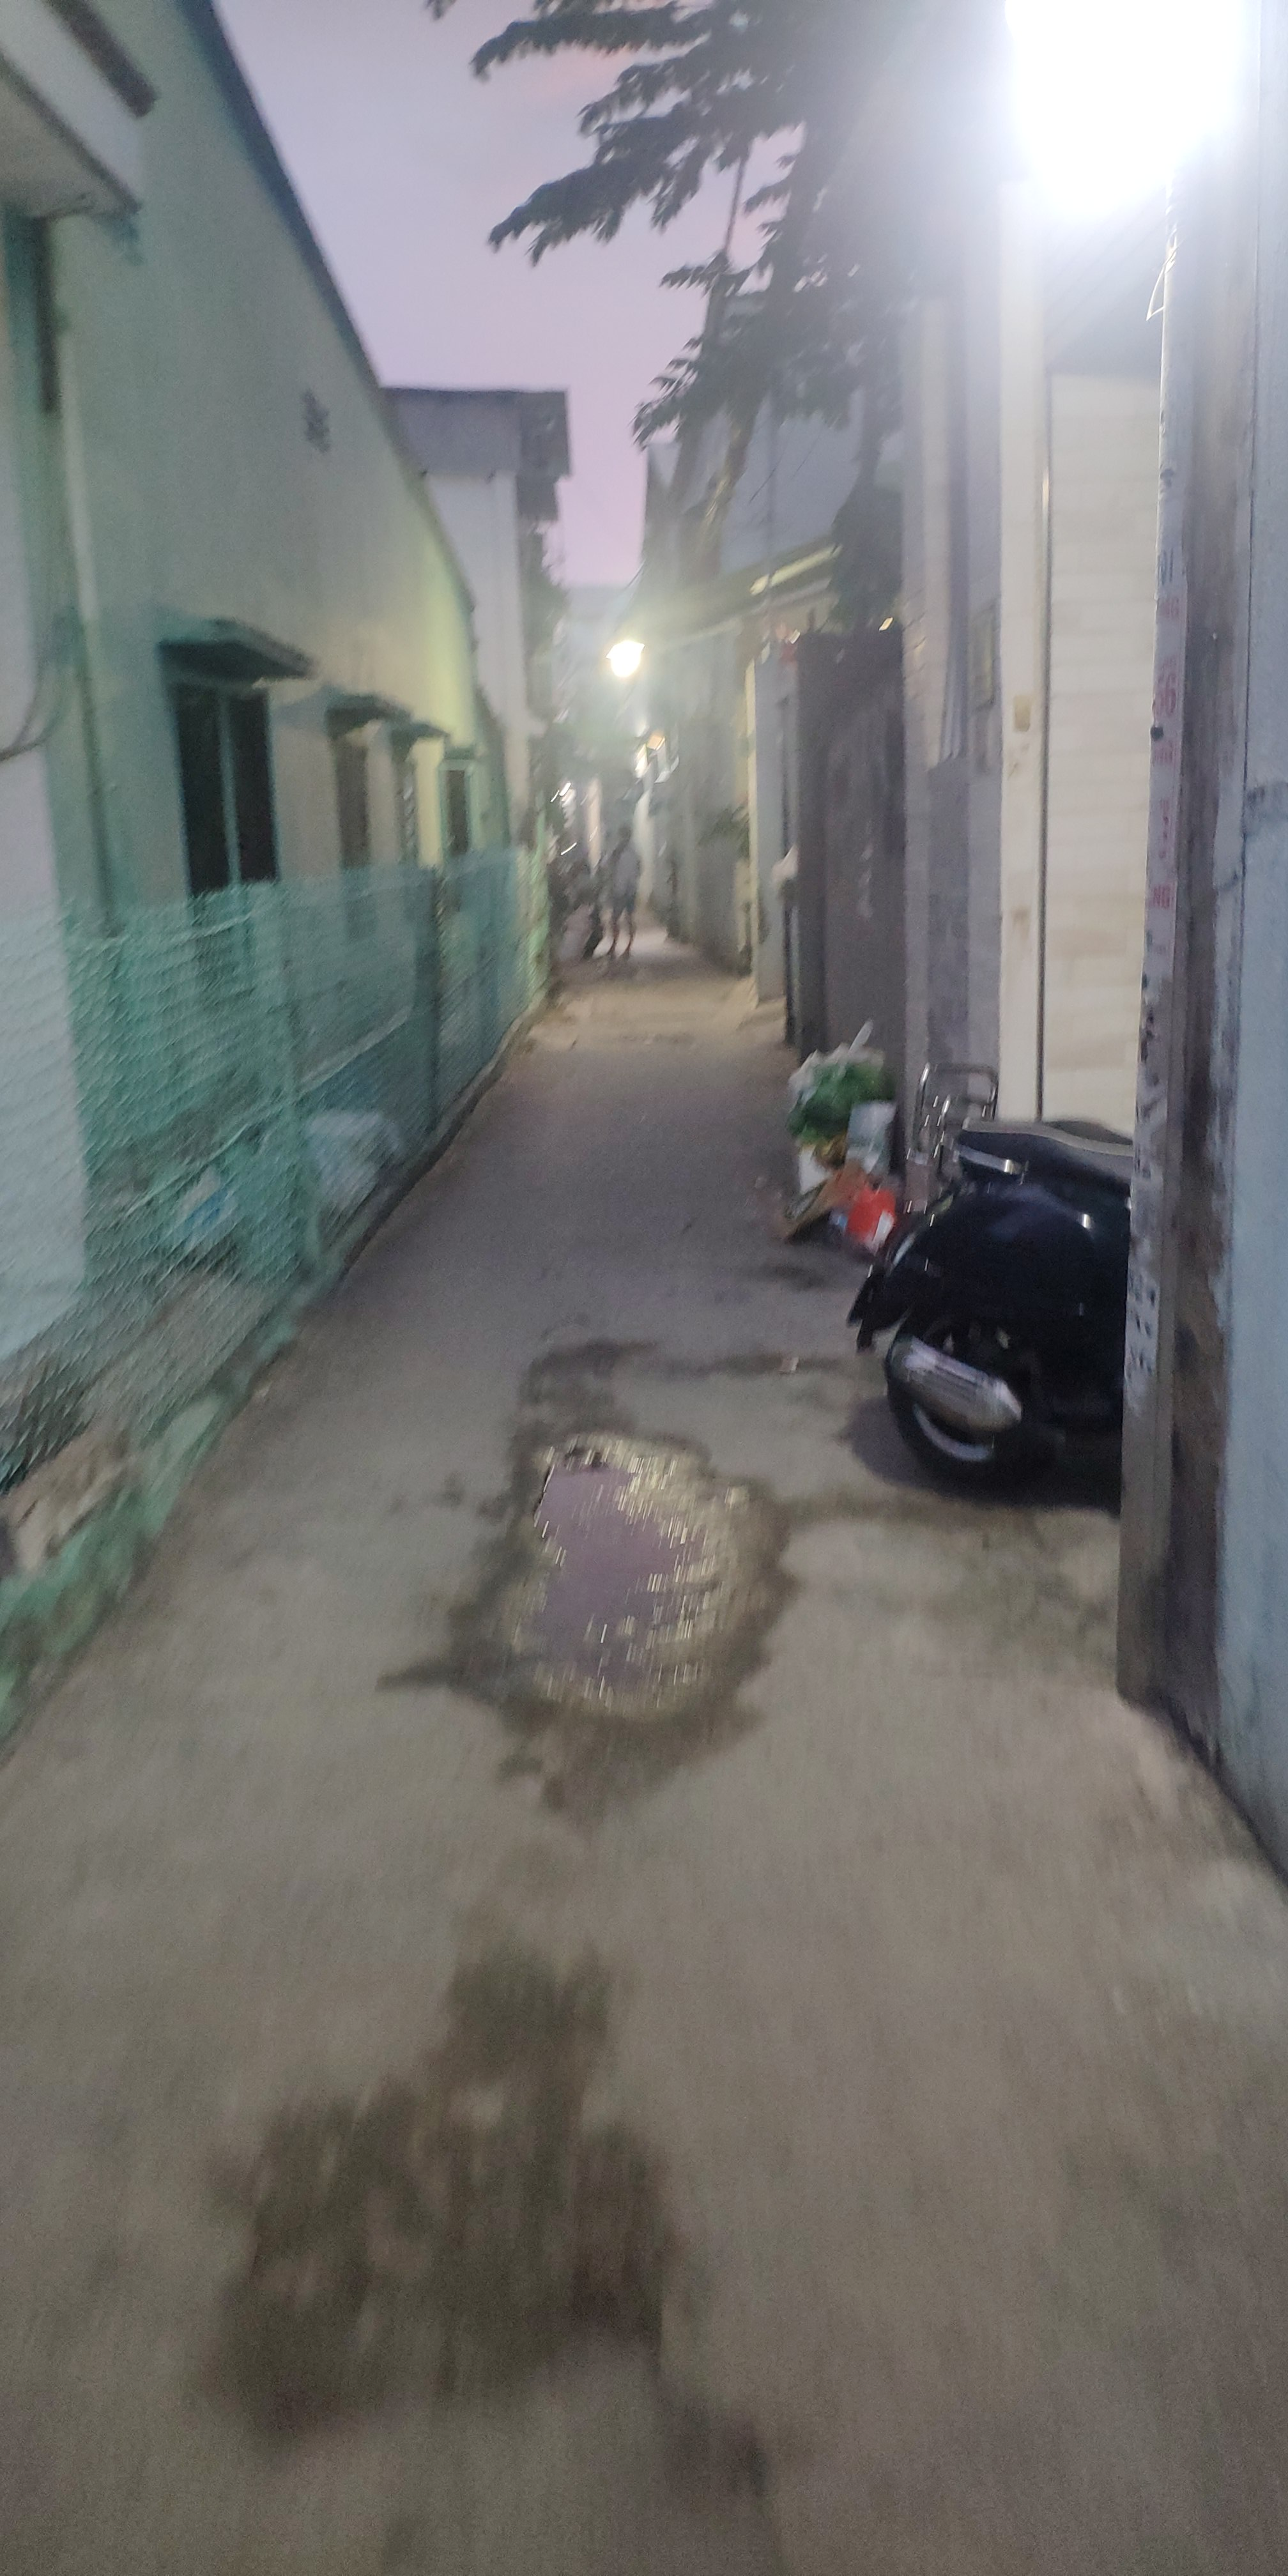hole: (498, 1429, 766, 1728)
